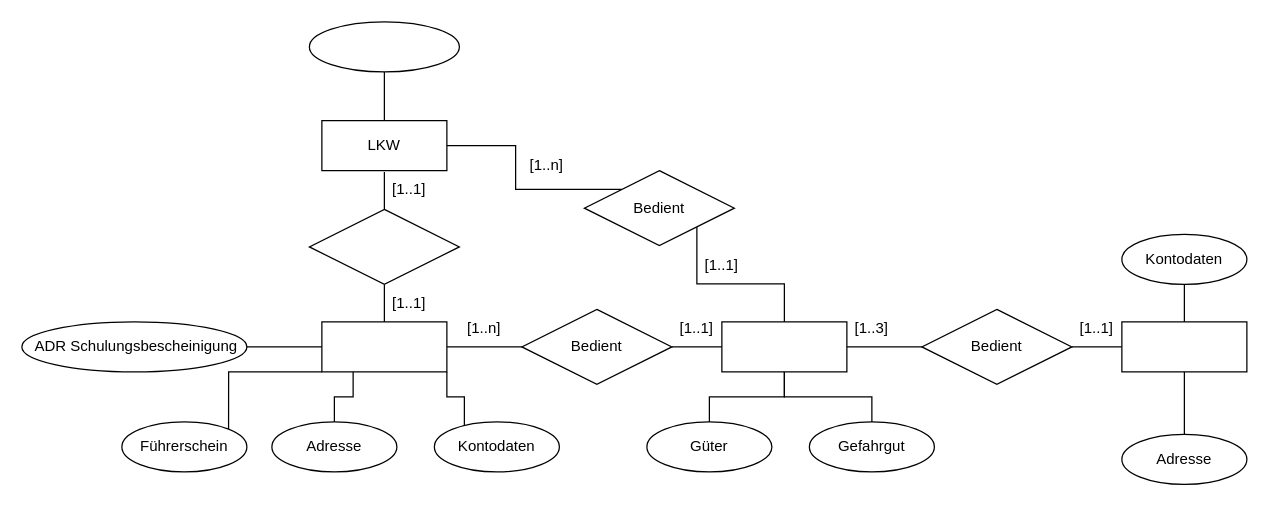
Some shapes in this 1269 by 506 pixel diagram are drawn without their labels. Each missing label, with the centre of its shape:
Fahrer: (384,346)
Fährt: (383,246)
Führerscheinklasse: (383,46)
Kunde: (1184,346)
Tour: (784,346)
